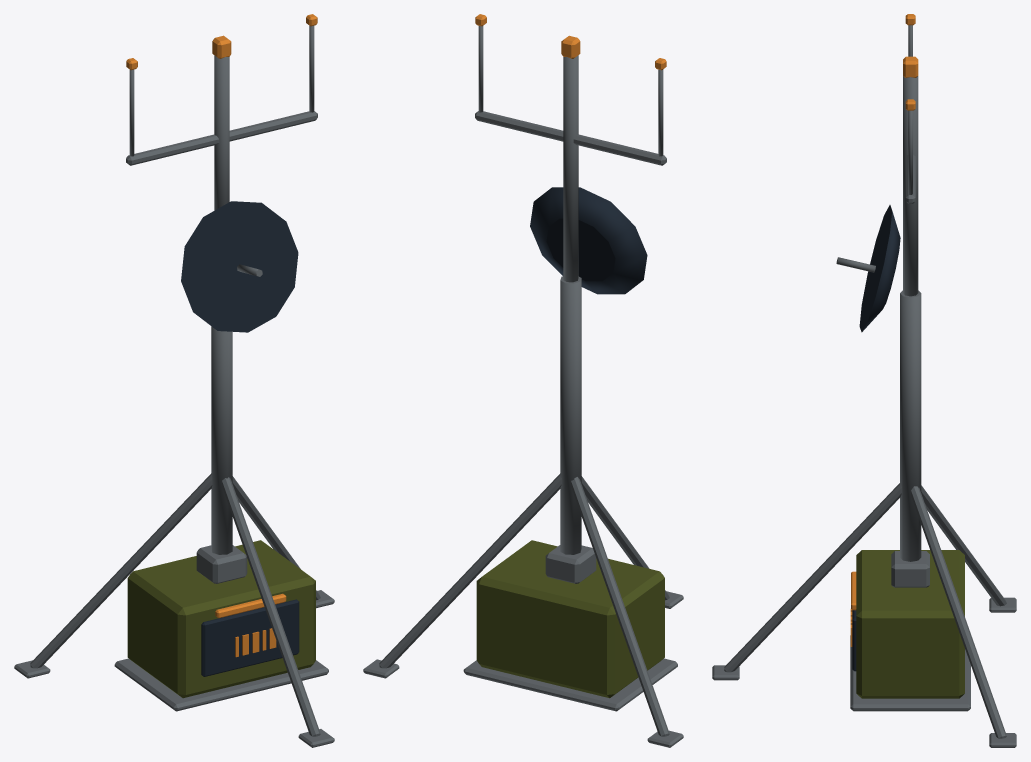
The model's file is comms_relay.obj.
3 renders of one model, left to right at view 1: azimuth 30°, elevation 25°; view 2: azimuth 150°, elevation 25°; view 3: azimuth 270°, elevation 25°, orthographic. The views are drawn at different scales.
Parts seen in each view (by area): view 1: comms_relay; view 2: comms_relay; view 3: comms_relay.
Boxes of the visible parts, left/top/right/bottom form: comms_relay: left=14, top=14, right=334, bottom=747; comms_relay: left=363, top=14, right=683, bottom=747; comms_relay: left=712, top=14, right=1016, bottom=747.
Bounding box in the file's own units: 1.79 × 3.51 × 1.56.
